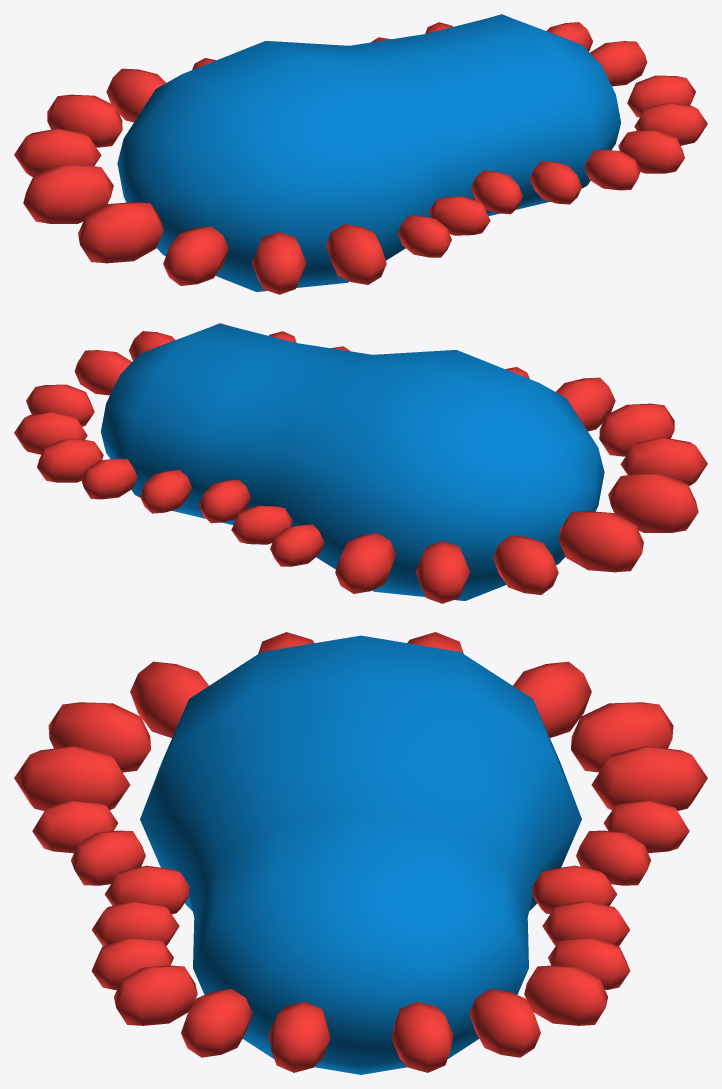
Rendered from monster7.fbx.
3 views of the same model, one above another, from view 1: azimuth 30°, elevation 25°; view 2: azimuth 150°, elevation 25°; view 3: azimuth 270°, elevation 25° (orthographic). The views are drawn at different scales.
Parts seen in each view (by area): view 1: monster7; view 2: monster7; view 3: monster7.
Boxes of the visible parts, bbox=[...] form: monster7: bbox=[14, 14, 707, 294]; monster7: bbox=[14, 323, 707, 603]; monster7: bbox=[14, 632, 707, 1074].
Size of the model in its own units: 101 by 32.61 by 72.99.
